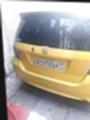License_Plate: (28, 55, 69, 73)
